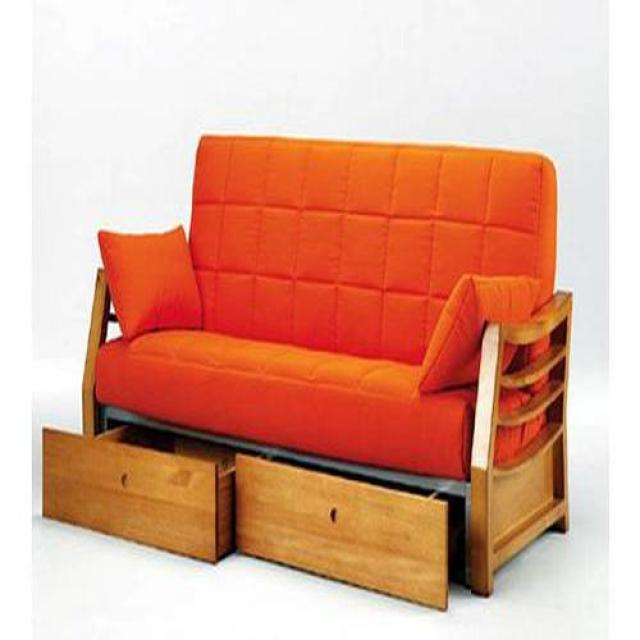sofa: (41, 134, 575, 613)
